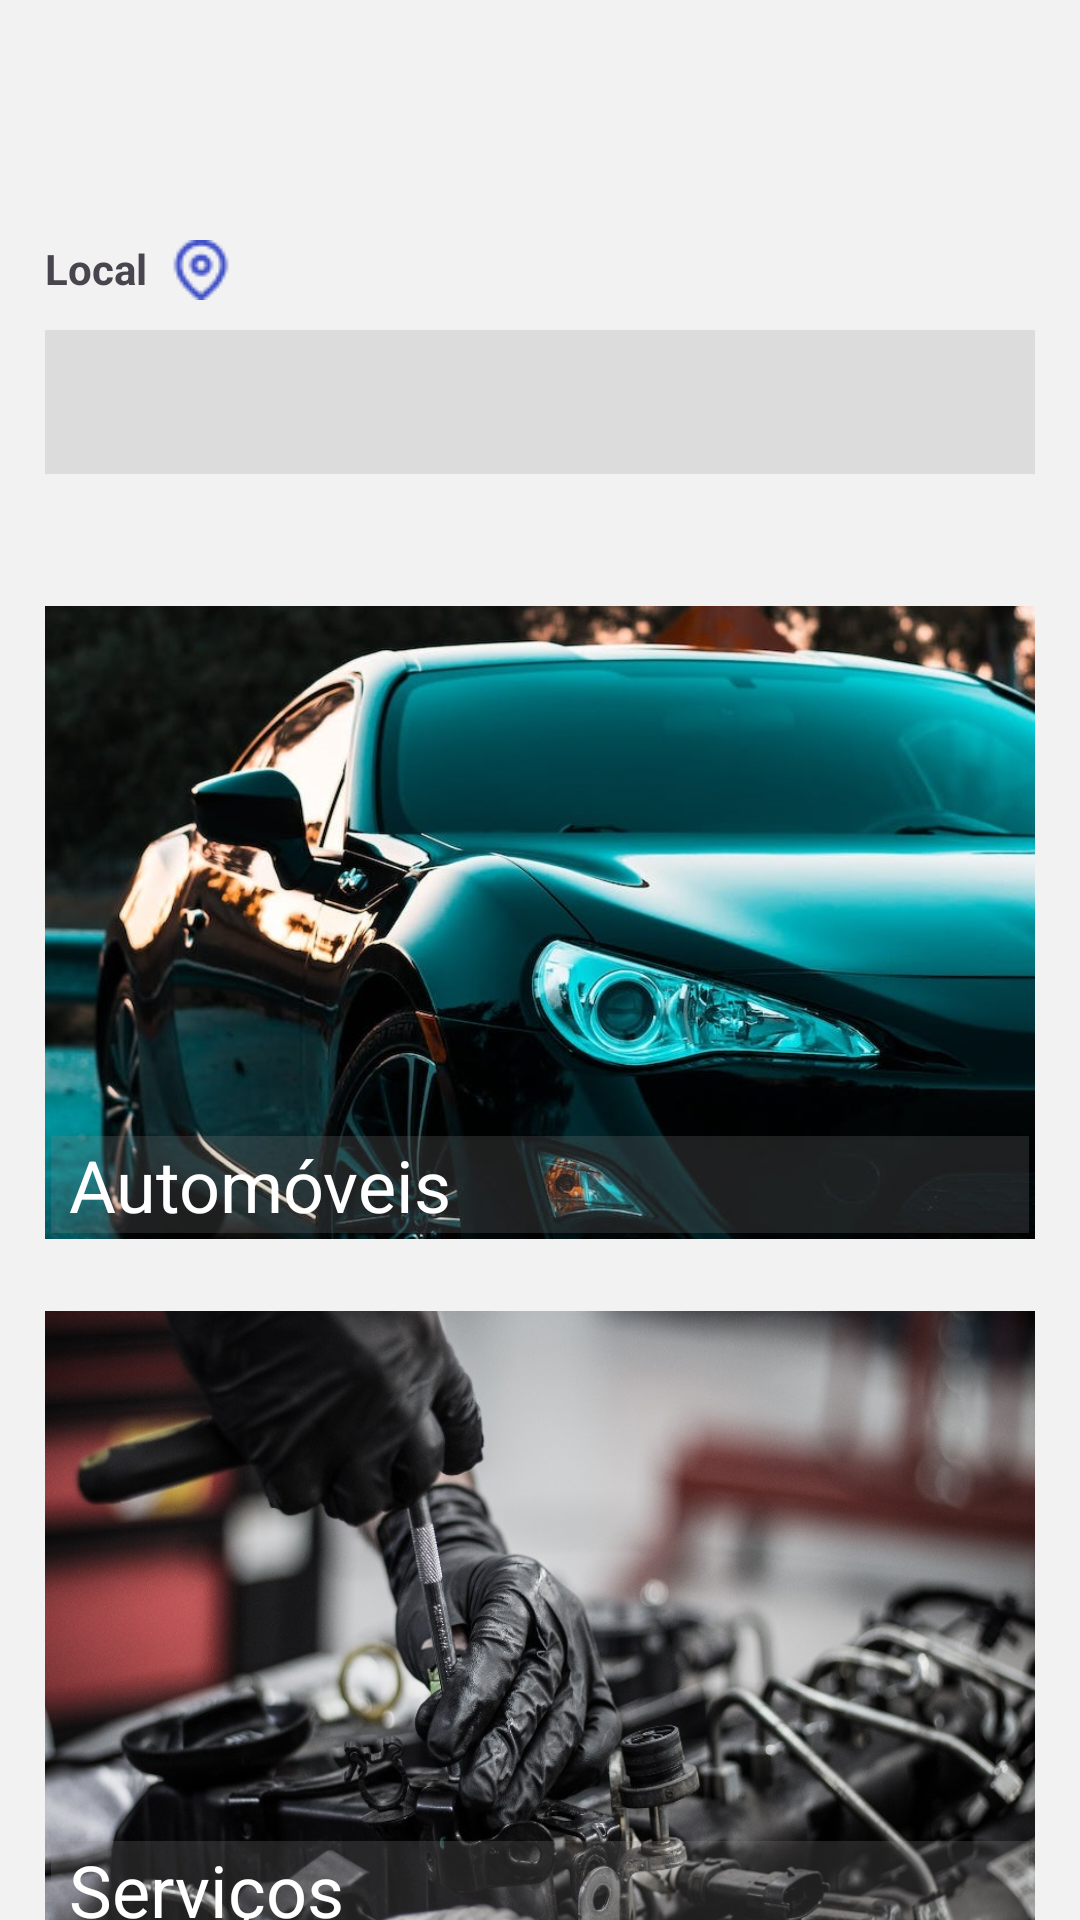

Icon click points for this 1080px x 1920px phone screenshot, format point (x, y):
pinmap: point (201, 270)
